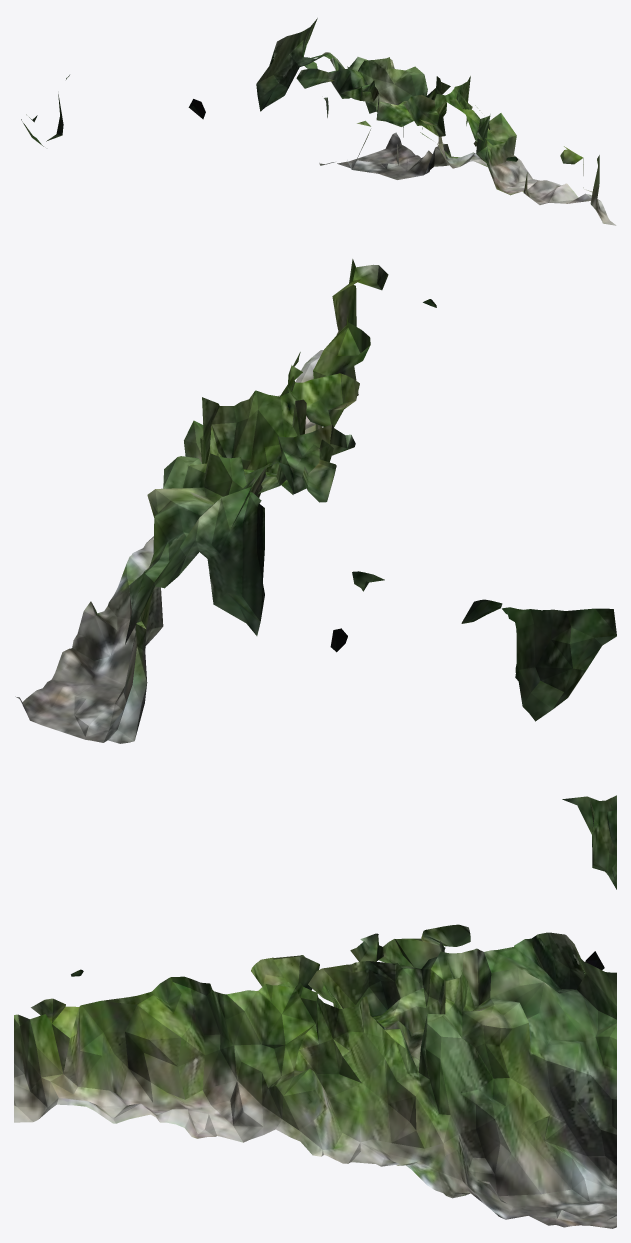
The picture shows the model from 3 angles, top to bottom: view 1: azimuth 30°, elevation 25°; view 2: azimuth 150°, elevation 25°; view 3: azimuth 270°, elevation 25°; orthographic projection. The views are drawn at different scales.
Size of the model in its own units: 26.11 by 10.16 by 26.11.
Materials: 2 (2 with a texture image).
